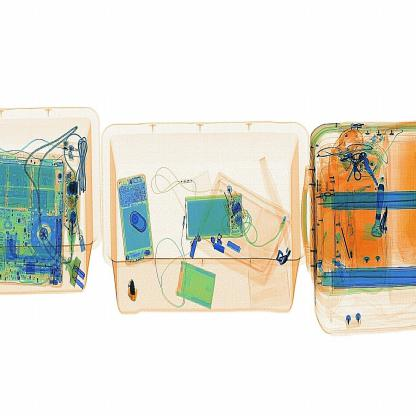wrench: (123, 275, 145, 308)
